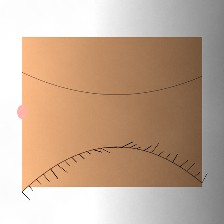pinguecula_lesion: (148, 98, 191, 132)
